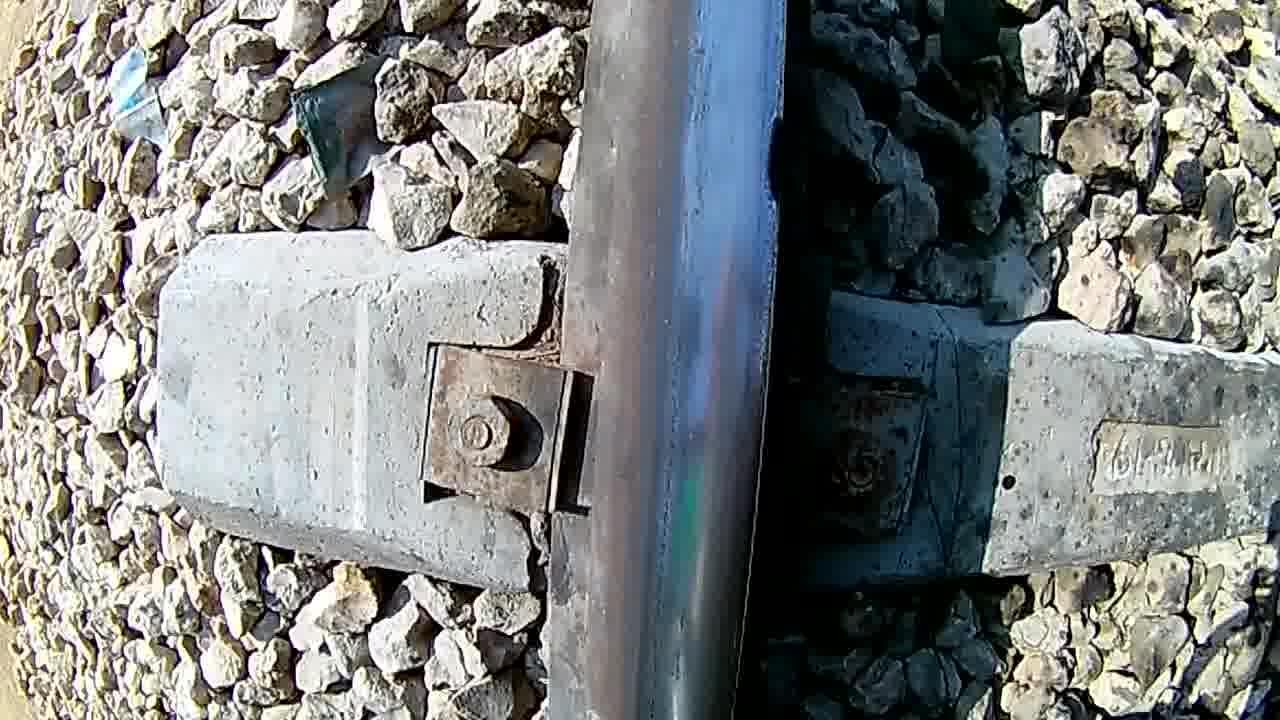crack: (600, 0, 760, 720)
